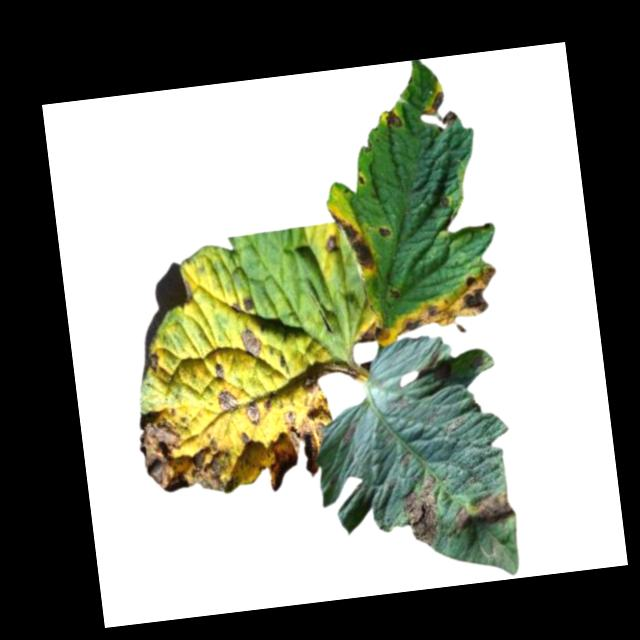Early_blight: (134, 398, 242, 503), (388, 260, 503, 339), (256, 392, 339, 495), (443, 487, 518, 536), (328, 204, 376, 276), (400, 473, 445, 549), (296, 355, 360, 392), (421, 87, 457, 129), (355, 314, 390, 347), (236, 325, 264, 359), (215, 389, 239, 414), (381, 107, 405, 131), (323, 233, 341, 256), (244, 403, 261, 425), (376, 220, 392, 239), (212, 358, 224, 382), (147, 354, 161, 372), (240, 295, 254, 312), (356, 170, 366, 186)
